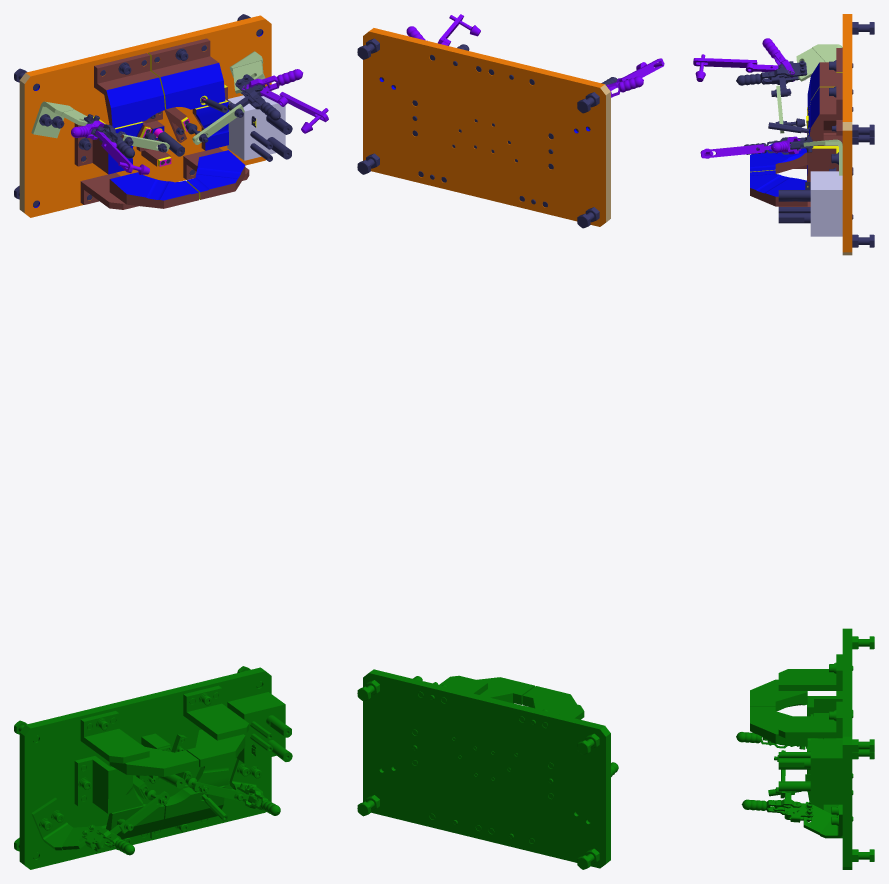
File: TE146127_57793_4-48060_050_K00_260630_KEN.obj
3 renders of one model, left to right at view 1: azimuth 30°, elevation 25°; view 2: azimuth 150°, elevation 25°; view 3: azimuth 270°, elevation 25°, orthographic. The views are drawn at different scales.
Parts seen in each view (by area): view 1: Shell_258, Shell_081, Shell_098, Shell_108, Shell_124, Shell_352, Shell_175, Shell_132, Shell_301, Shell_275, Shell_302, Shell_310 (+14 smaller); view 2: Shell_258, Shell_081, Shell_309, Shell_301; view 3: Shell_081, Shell_258, Shell_352, Shell_175, Shell_132, Shell_310, Shell_302, Shell_309, Shell_301, Shell_124, Shell_098, Shell_194 (+11 smaller).
Boxes of the visible parts, x1,y1,x2,y2 form: Shell_258: (19, 667, 271, 869); Shell_081: (19, 15, 271, 217); Shell_098: (158, 61, 225, 109); Shell_108: (104, 76, 164, 127); Shell_124: (109, 172, 198, 208); Shell_352: (227, 692, 285, 763); Shell_175: (227, 91, 285, 160); Shell_132: (186, 150, 245, 199); Shell_301: (109, 746, 198, 776); Shell_275: (159, 785, 225, 829); Shell_302: (84, 729, 149, 763); Shell_310: (186, 703, 249, 740); Shell_258: (363, 669, 610, 868); Shell_081: (363, 28, 610, 226); Shell_309: (476, 677, 534, 704); Shell_301: (522, 686, 576, 709); Shell_081: (842, 14, 852, 255); Shell_258: (842, 628, 852, 869); Shell_352: (810, 739, 842, 804); Shell_175: (810, 171, 842, 236); Shell_132: (750, 170, 807, 206); Shell_310: (778, 716, 836, 738); Shell_302: (778, 669, 836, 690); Shell_309: (750, 707, 807, 746); Shell_301: (750, 679, 807, 711); Shell_124: (750, 143, 807, 173); Shell_098: (807, 87, 823, 145); Shell_194: (741, 799, 801, 814).
Bounding box in the file's own units: 420 × 1290 × 284.
